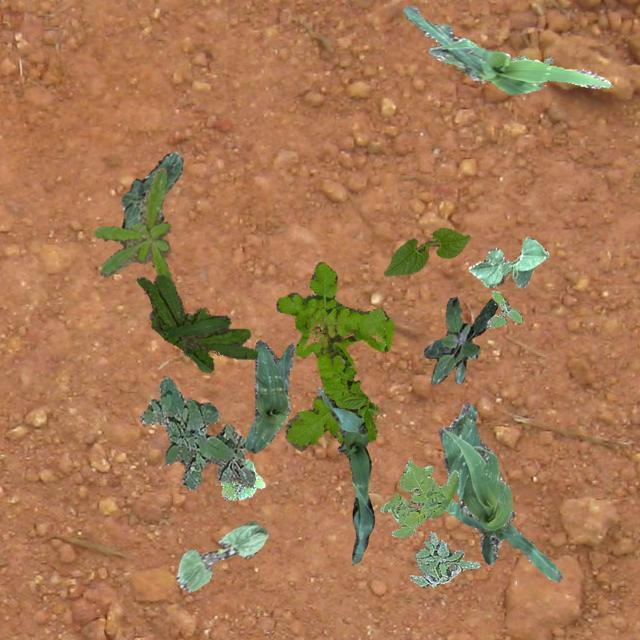crop: (438, 400, 562, 580), (402, 5, 610, 94), (316, 386, 372, 562), (175, 520, 268, 592), (244, 339, 294, 452), (120, 150, 182, 228), (468, 235, 548, 288), (382, 227, 470, 274)
weed: (276, 260, 392, 450), (140, 376, 254, 490), (136, 274, 256, 372), (94, 166, 170, 280), (422, 296, 497, 384), (378, 459, 458, 536), (408, 530, 478, 586), (219, 458, 263, 500), (486, 288, 522, 326), (512, 54, 552, 64)
